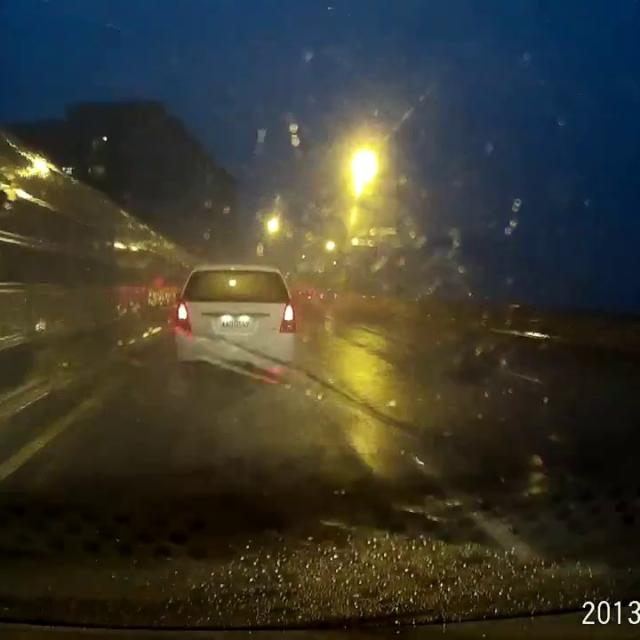Car: (169, 258, 304, 374)
